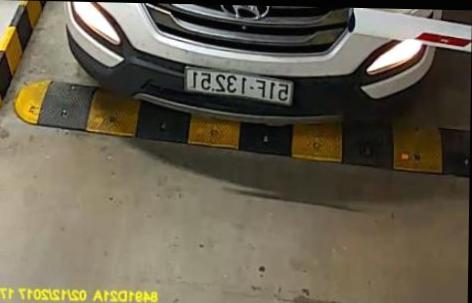License_Plate: (182, 66, 302, 106)
